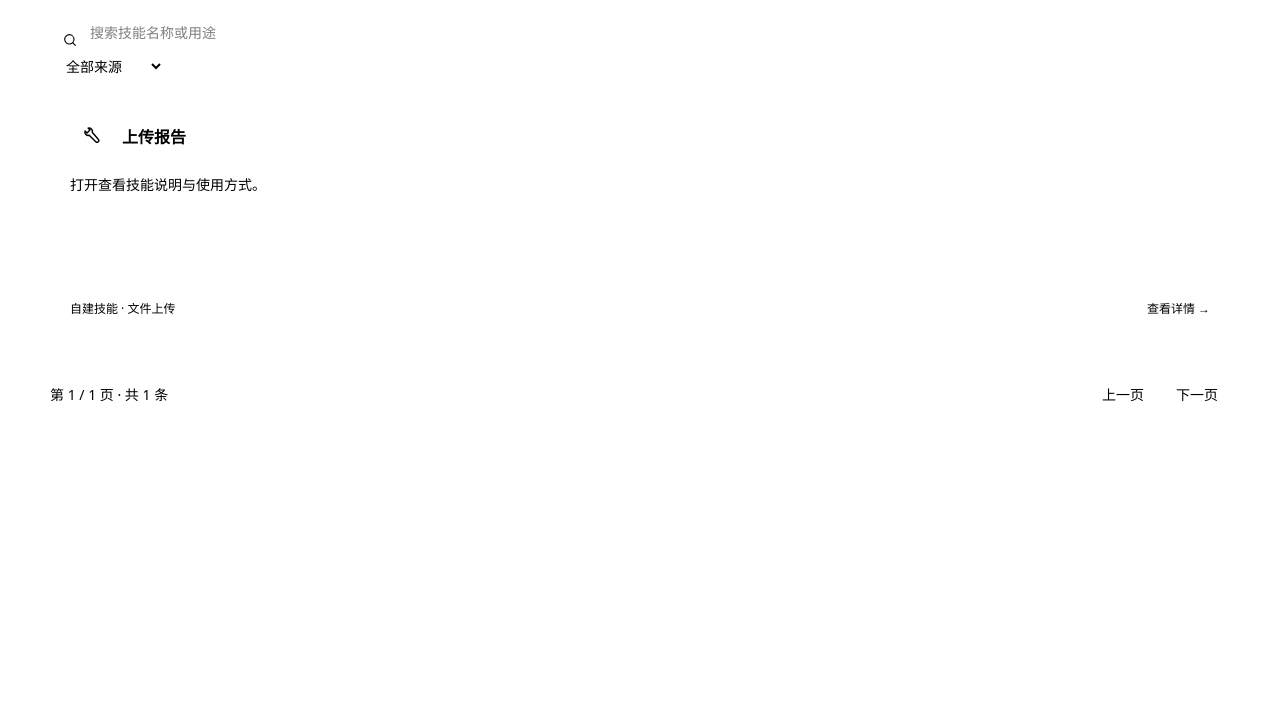
it: Skill managers can expand full instructions
Click the button "上传报告 打开查看技能说明与使用方式。 自建技能 · 文件上传 查看详情 →" at (640, 217), box [50,97,1230,337]
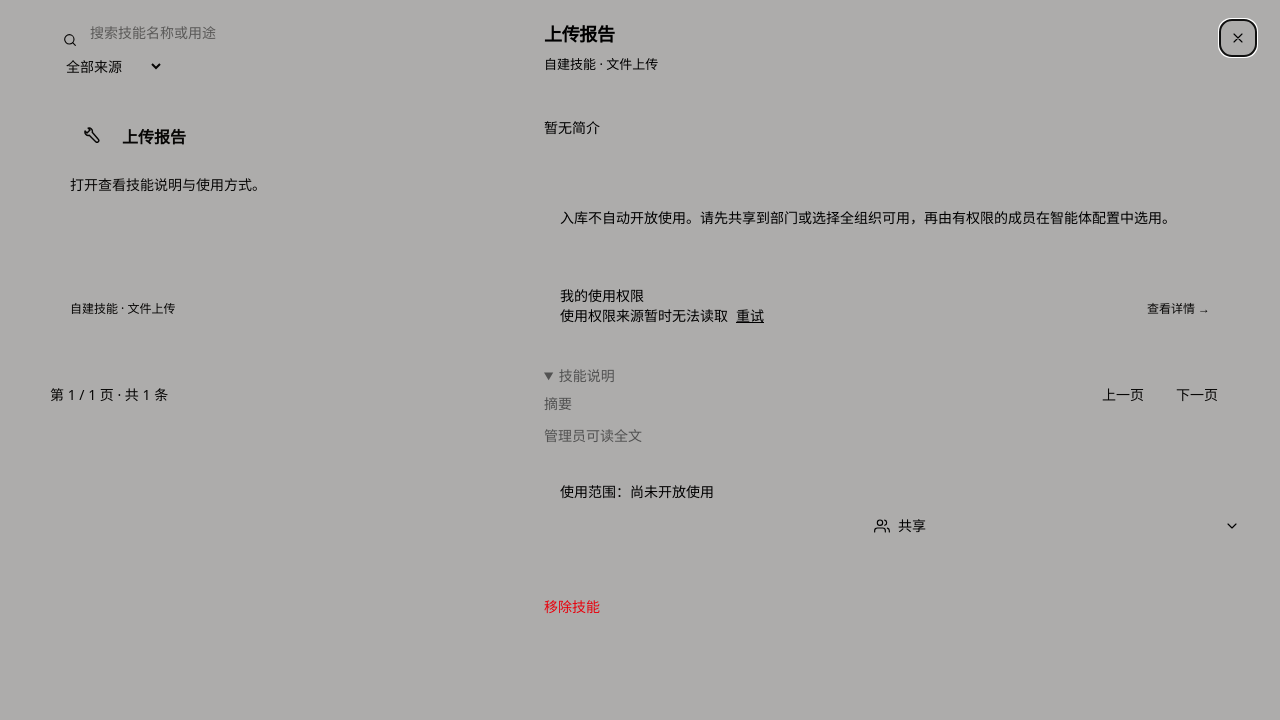
Result: the text "管理员可读全文" is shown at [544,426,642,445]
